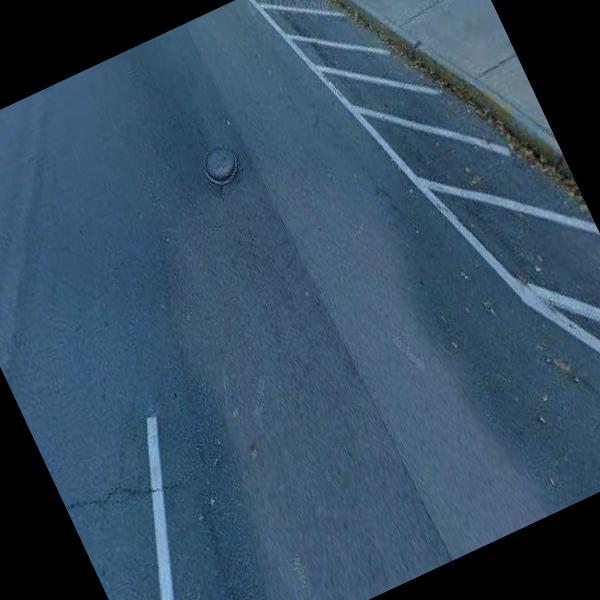manhole: (176, 117, 261, 209)
